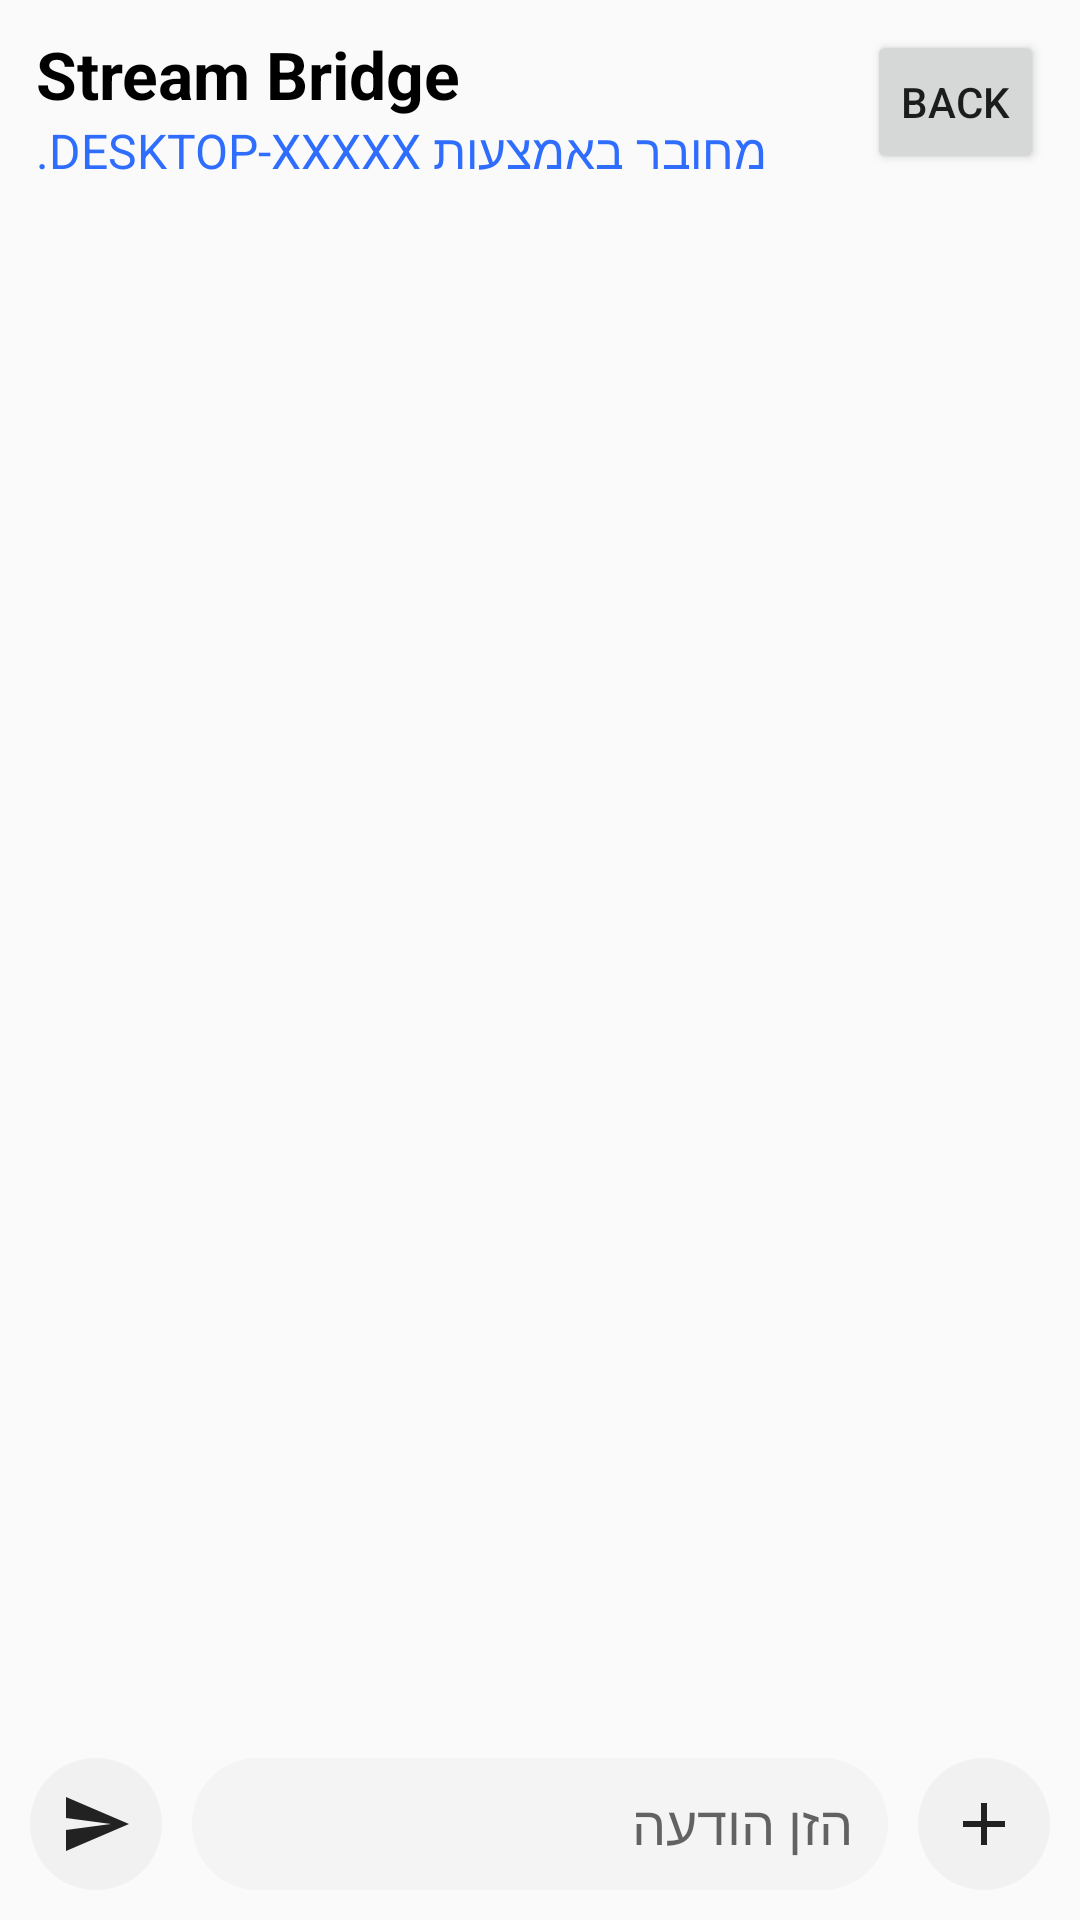

Point at icon controls on the screen. Image size 1080 × 1920, points as [x,y].
Attach: [984,1824]
Send: [96,1824]
